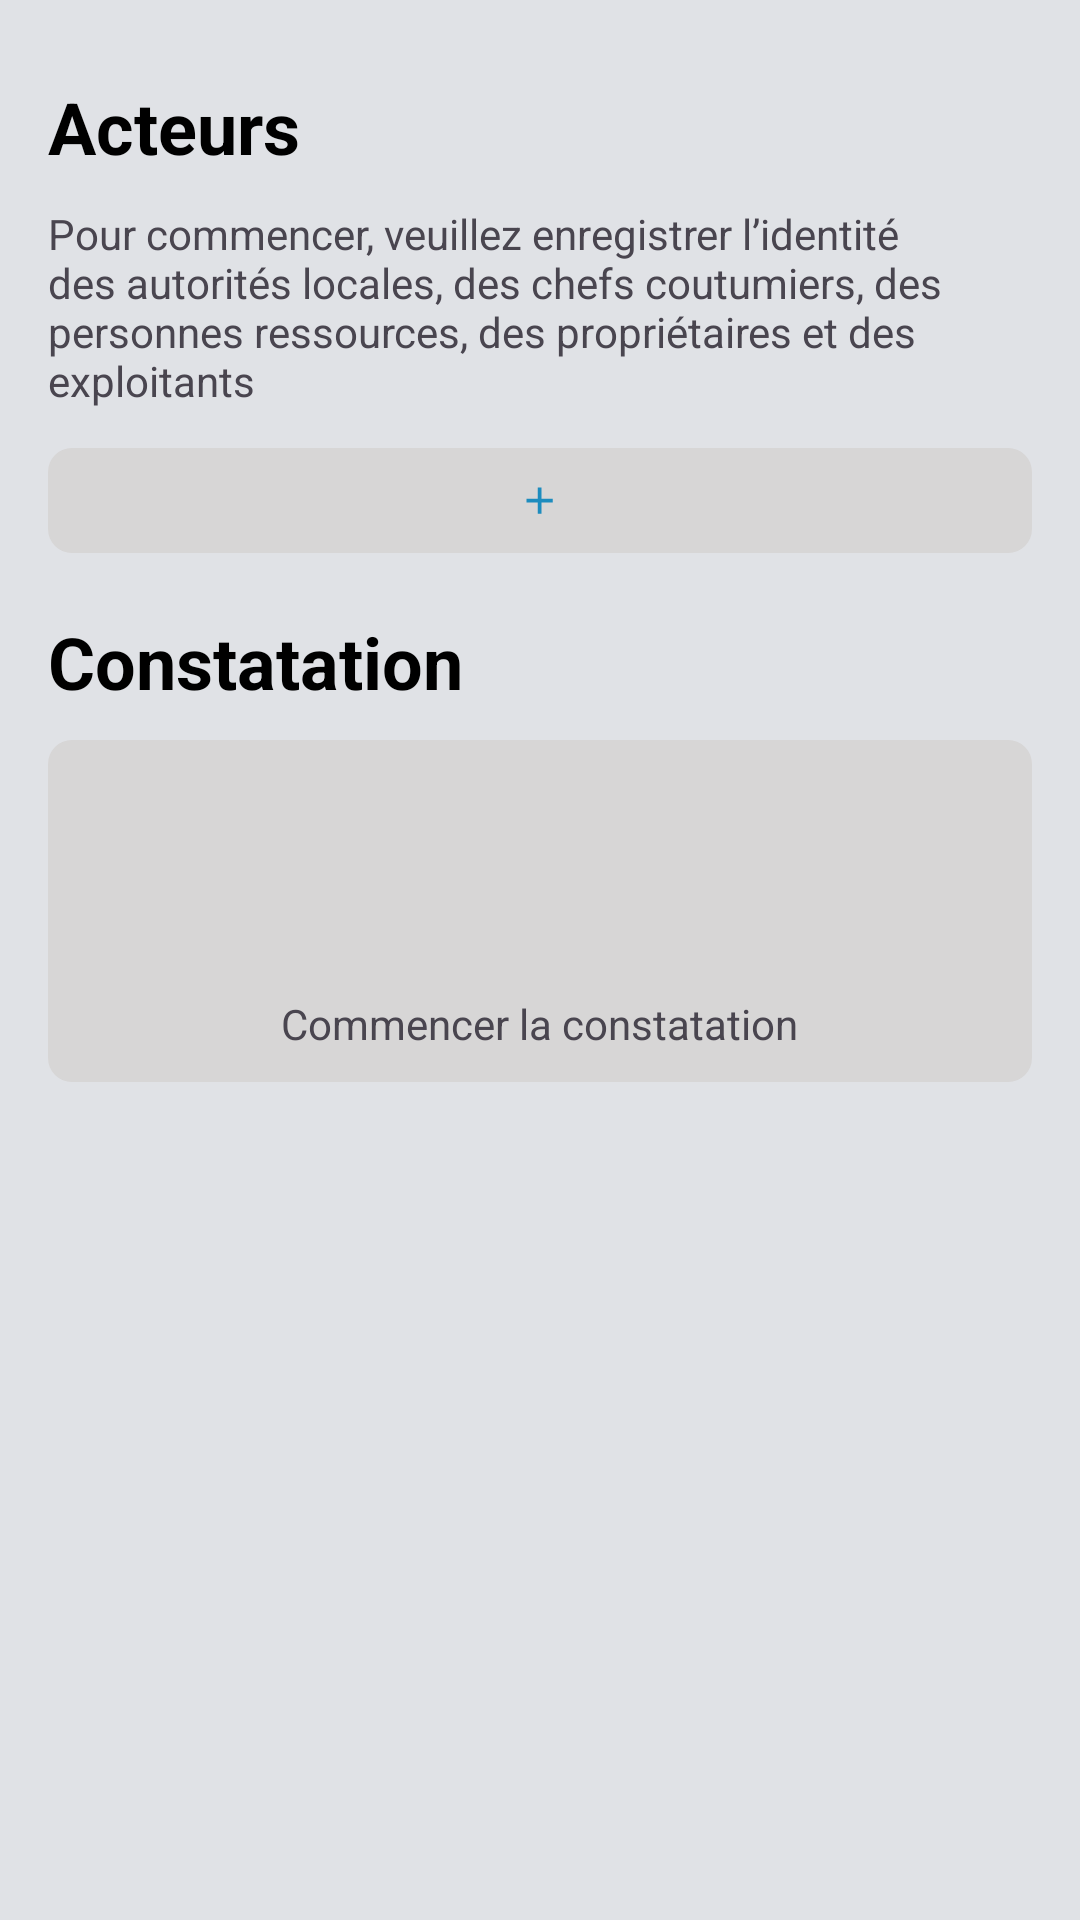

Icon bounding boxes for this 1080*1920 phone screenshot, format (x1, y1, x2, y2):
add: (526, 487, 553, 514)
